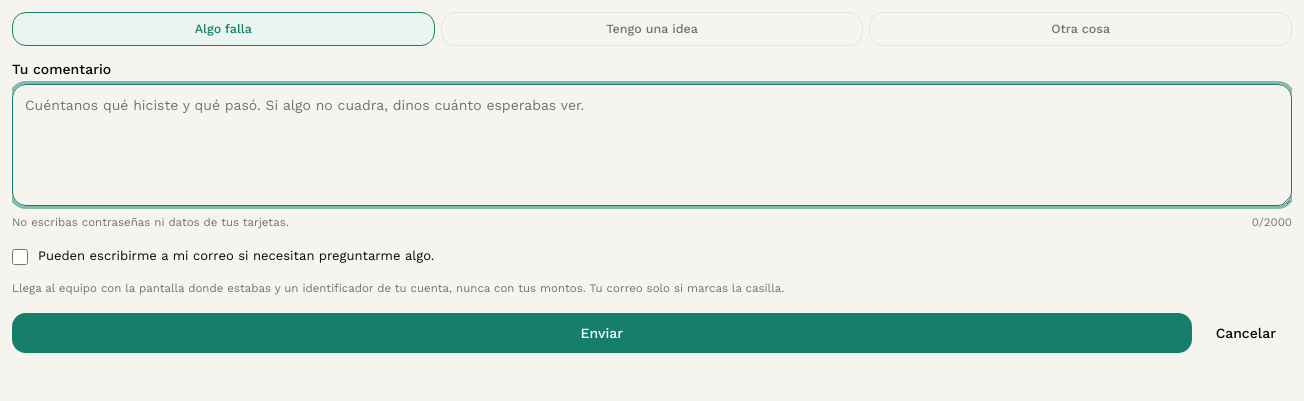
Test: FormularioComentarios › sin escribir nada no manda nada y pide el comentario
Click the button "Enviar" at [602, 333], box [12, 313, 1192, 353]
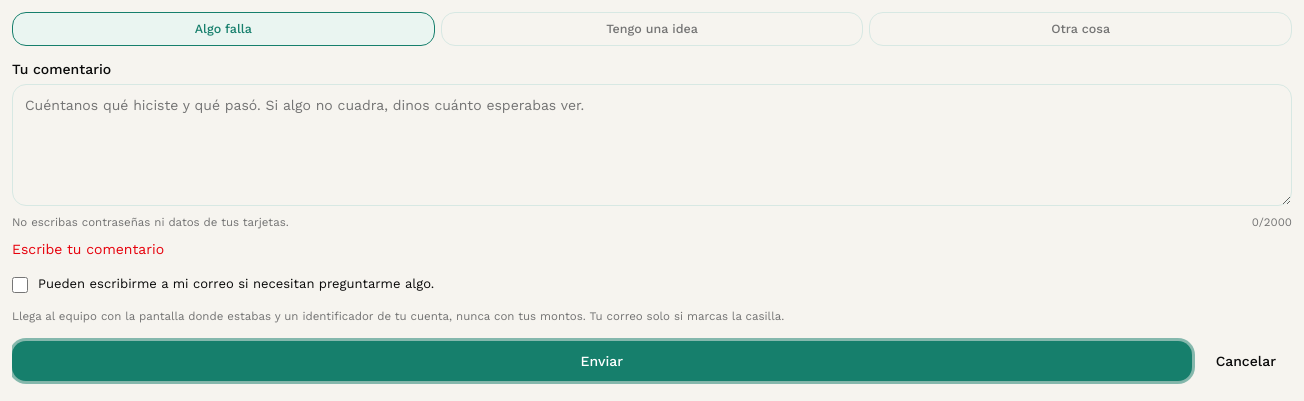
Now the text "Escribe tu comentario" is shown, box [12, 241, 164, 257]
